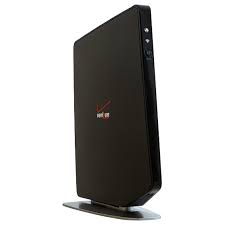Verizon Router: (59, 4, 182, 225)
